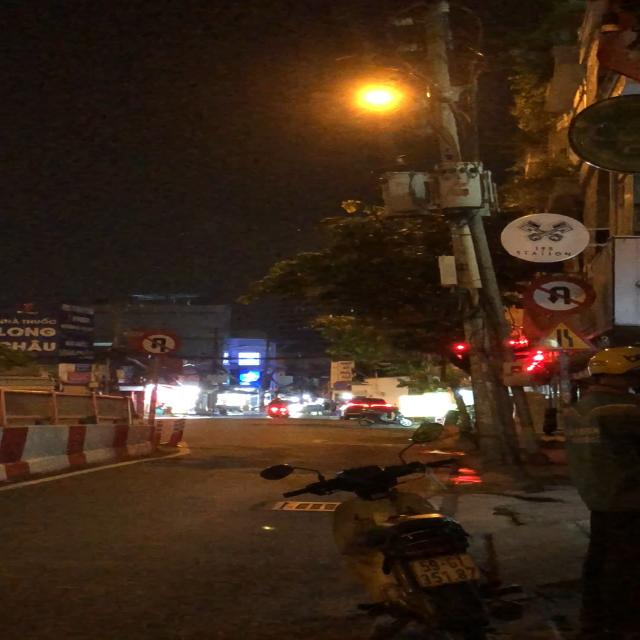Bien bao cam quay dau xe: (524, 274, 596, 315), (134, 330, 180, 360)
Bien bao duong bi thu hep: (526, 320, 602, 354)
